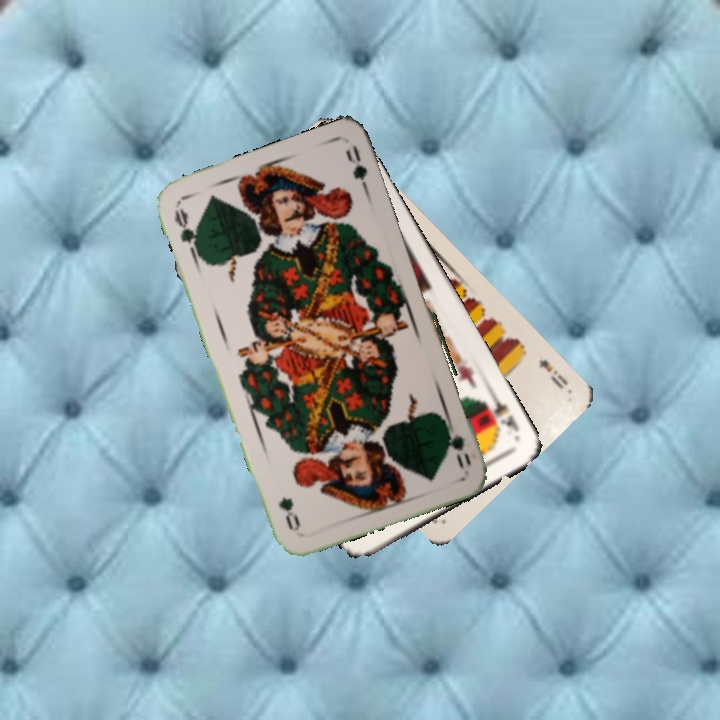E9: (534, 355, 571, 392)
GO: (170, 203, 205, 261), (440, 414, 474, 472)
SK: (479, 390, 522, 443)
